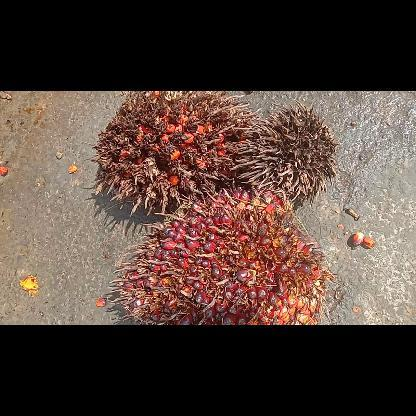Janjang kosong: (231, 101, 339, 208)
TBS masak: (106, 188, 336, 324)
Terlalu masak: (86, 90, 254, 214)
